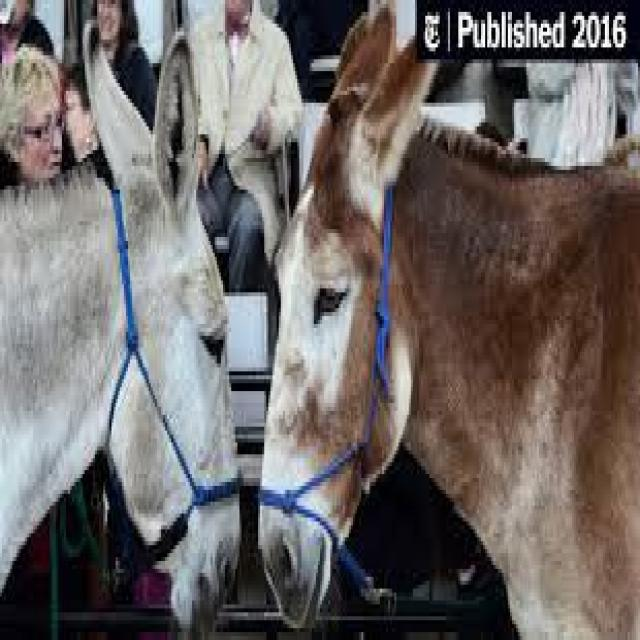Donkey: (254, 6, 639, 640), (0, 12, 249, 639)
